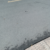zebra: (1, 6, 50, 42)
